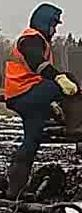gloves: (53, 73, 78, 95), (50, 96, 67, 125)
vest: (2, 26, 53, 104)
